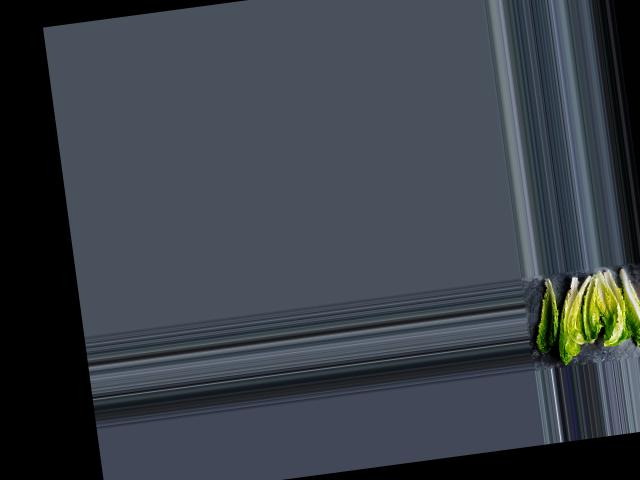lettuce: (530, 274, 564, 353)
